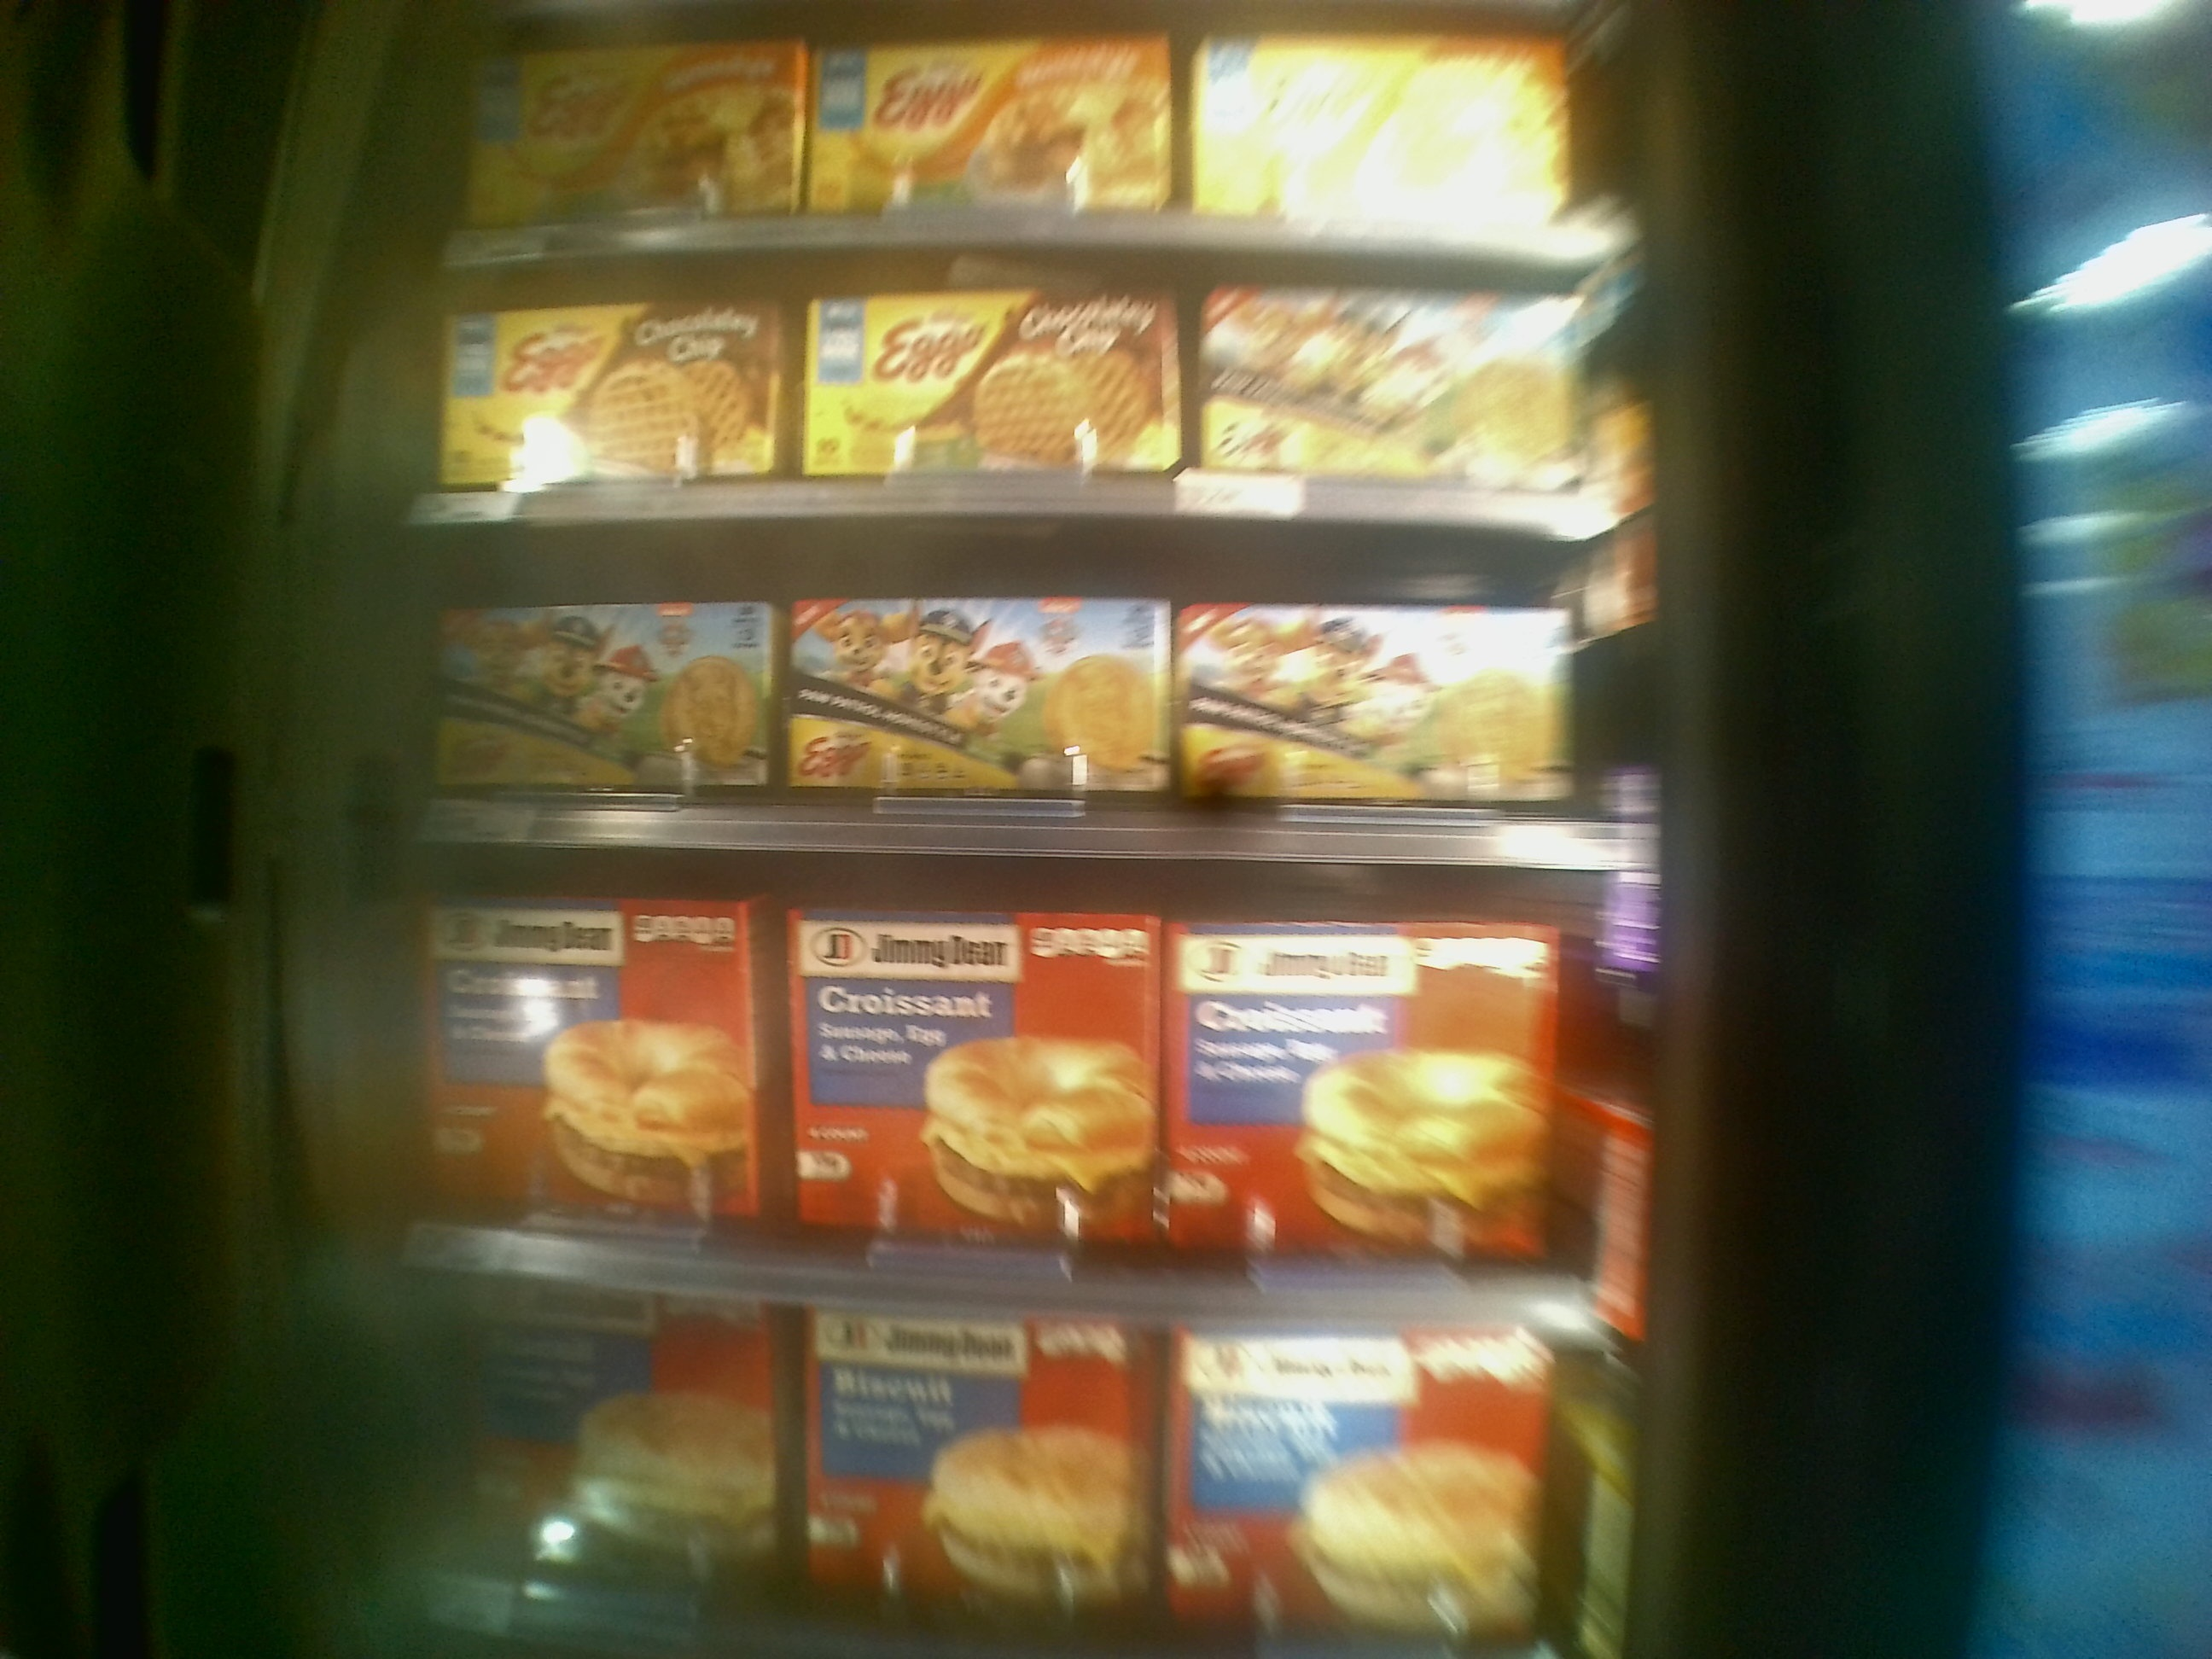shelf: (406, 847, 1641, 1338), (404, 516, 1627, 873), (406, 270, 1604, 533)
